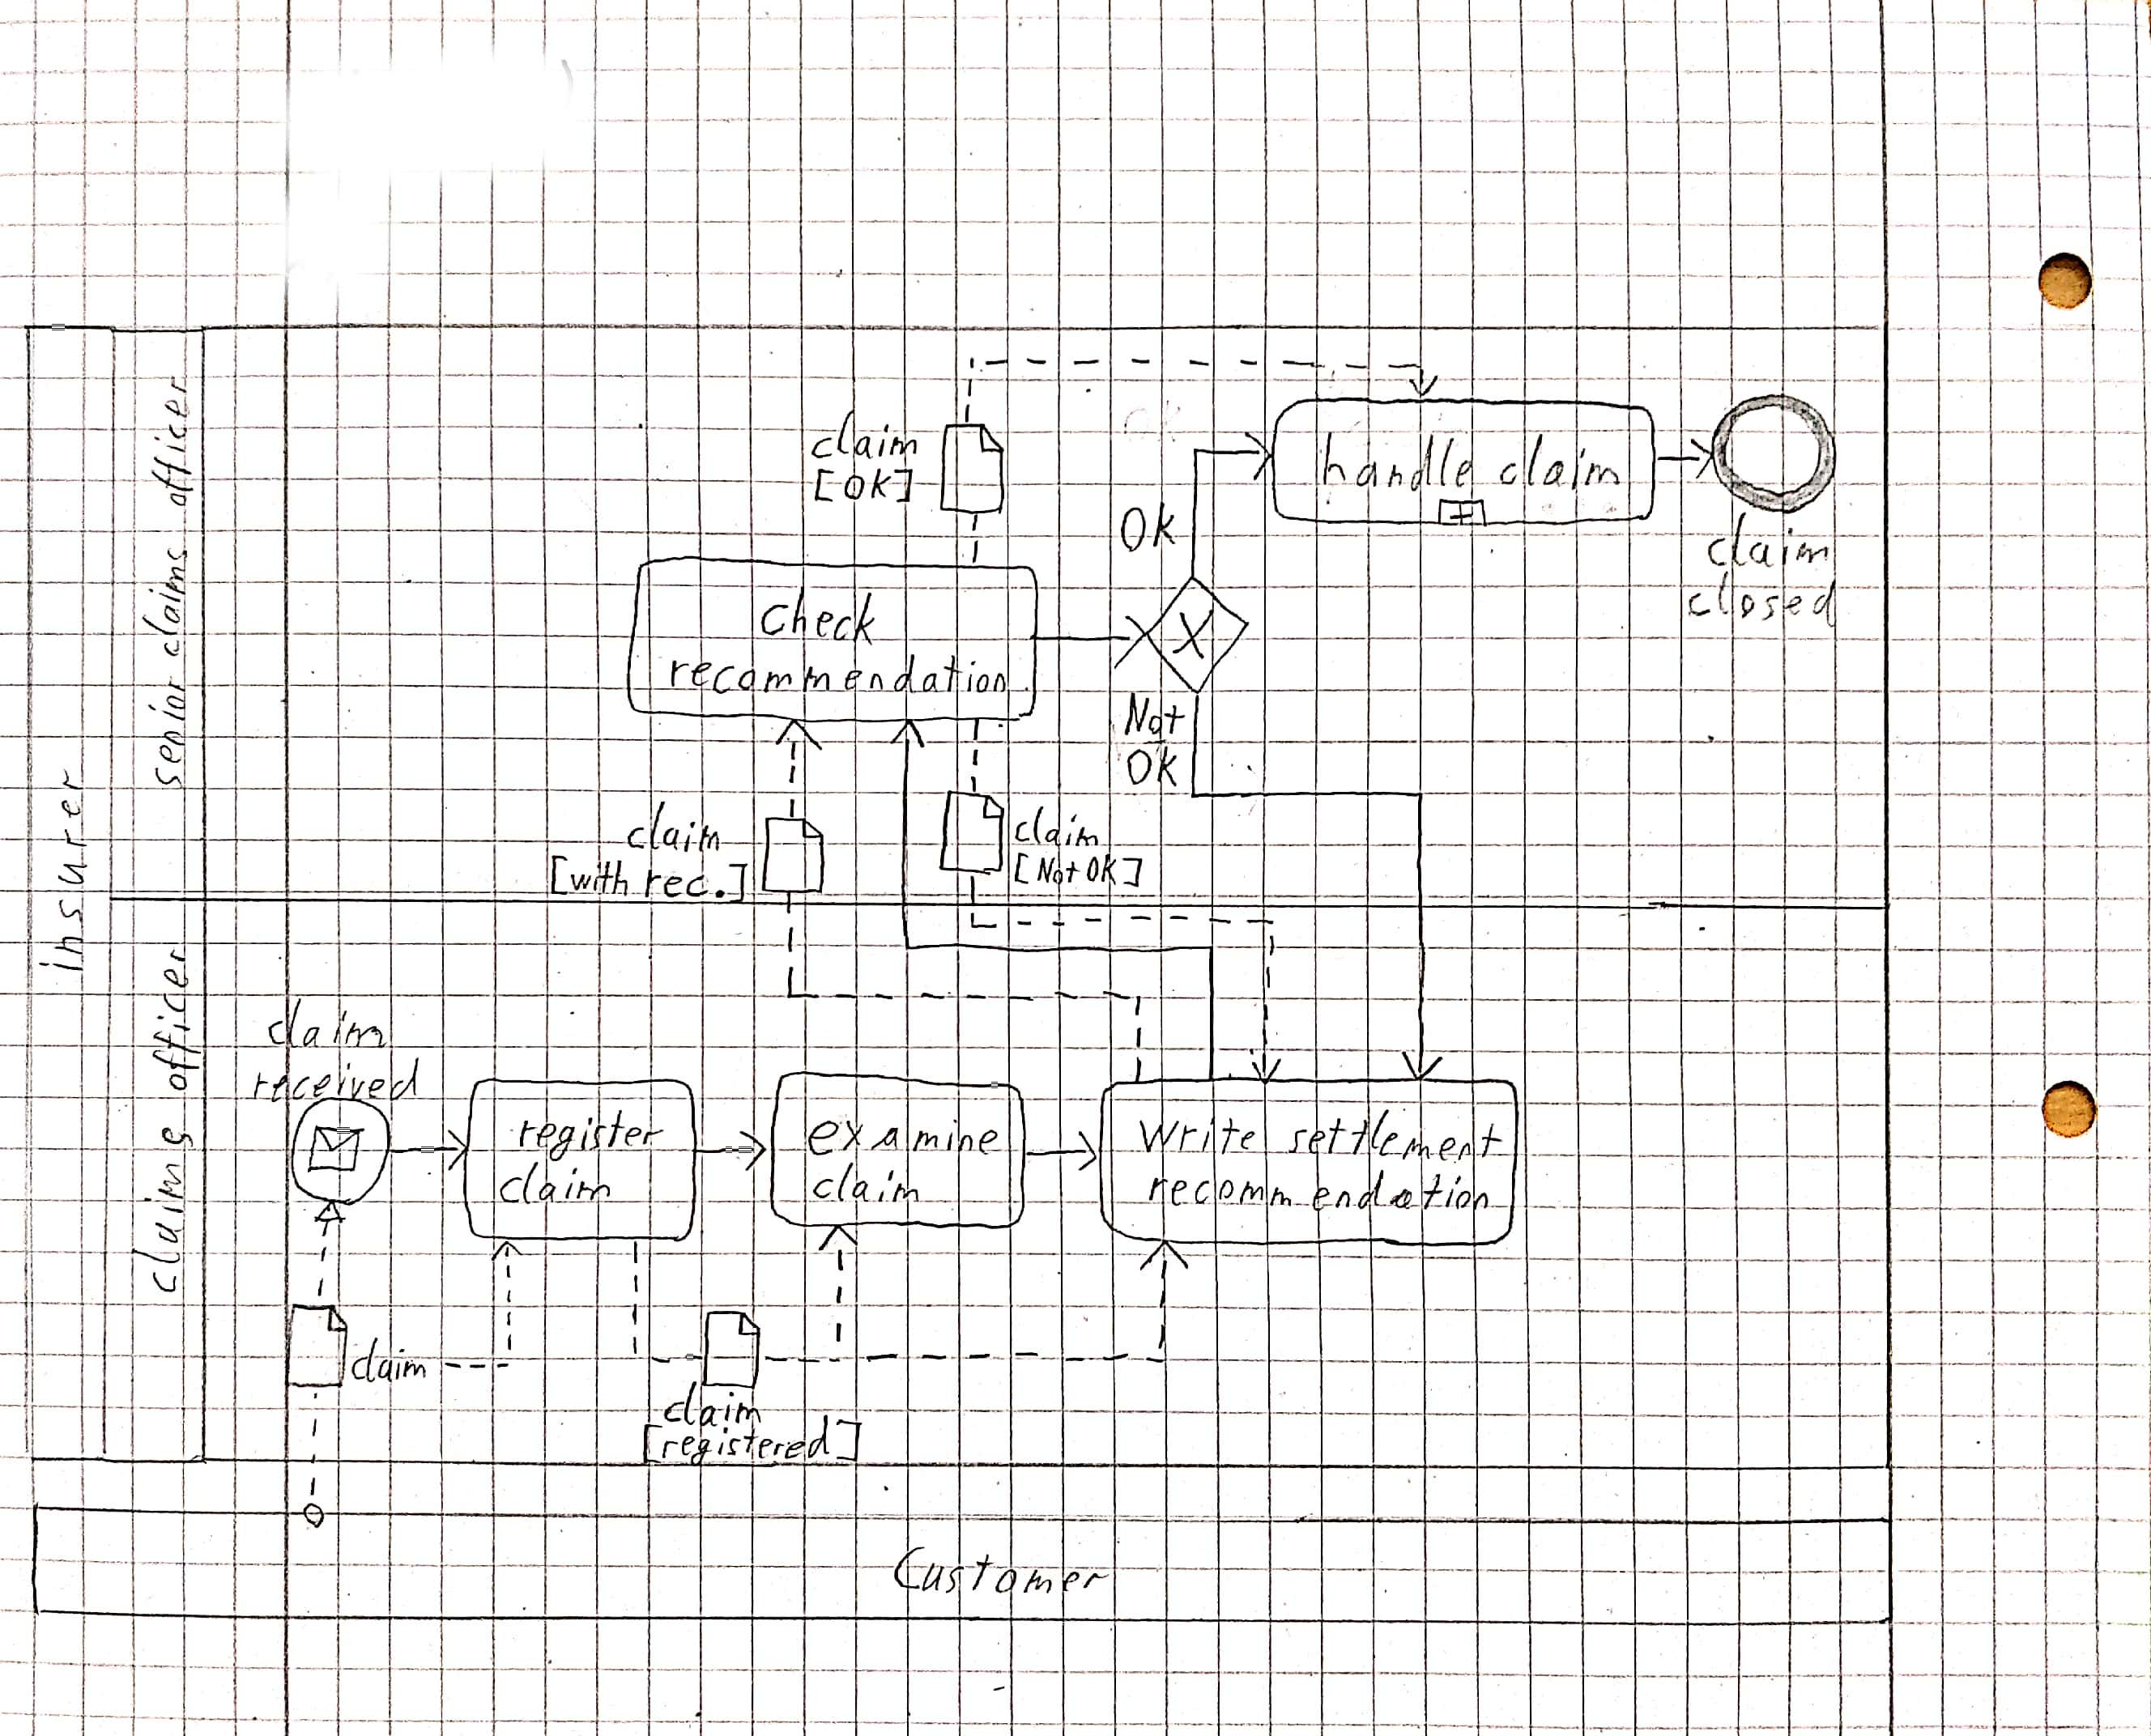Customer: (884, 1539, 1118, 1603)
Not: (1116, 687, 1189, 742)
OK: (1113, 496, 1187, 560), (1120, 739, 1185, 794)
OK]: (1081, 849, 1148, 893)
[Not: (1006, 849, 1084, 891)
[OK]: (810, 462, 918, 510)
[registered]: (634, 1410, 868, 1472)
[with: (540, 849, 638, 900)
check: (755, 579, 886, 655)
claim: (1699, 505, 1837, 576), (1490, 427, 1628, 496), (262, 992, 395, 1058), (803, 404, 925, 466), (618, 794, 728, 859), (493, 1155, 618, 1212), (656, 1375, 769, 1433), (806, 1155, 927, 1210), (1008, 799, 1106, 854), (346, 1330, 432, 1389)
claims: (122, 1120, 202, 1302), (136, 540, 195, 666)
closed: (1680, 563, 1844, 636)
examine: (801, 1109, 1006, 1162)
handle: (1315, 425, 1483, 498)
insurer: (30, 758, 96, 980)
officer: (144, 937, 207, 1097), (142, 367, 200, 514)
rec.]: (636, 856, 751, 907)
received: (246, 1050, 427, 1107)
recommendation: (1141, 1162, 1497, 1219), (661, 647, 1019, 701)
register: (512, 1104, 670, 1167)
senior: (142, 668, 191, 799)
settlement: (1283, 1104, 1510, 1167)
write: (1132, 1105, 1263, 1162)
